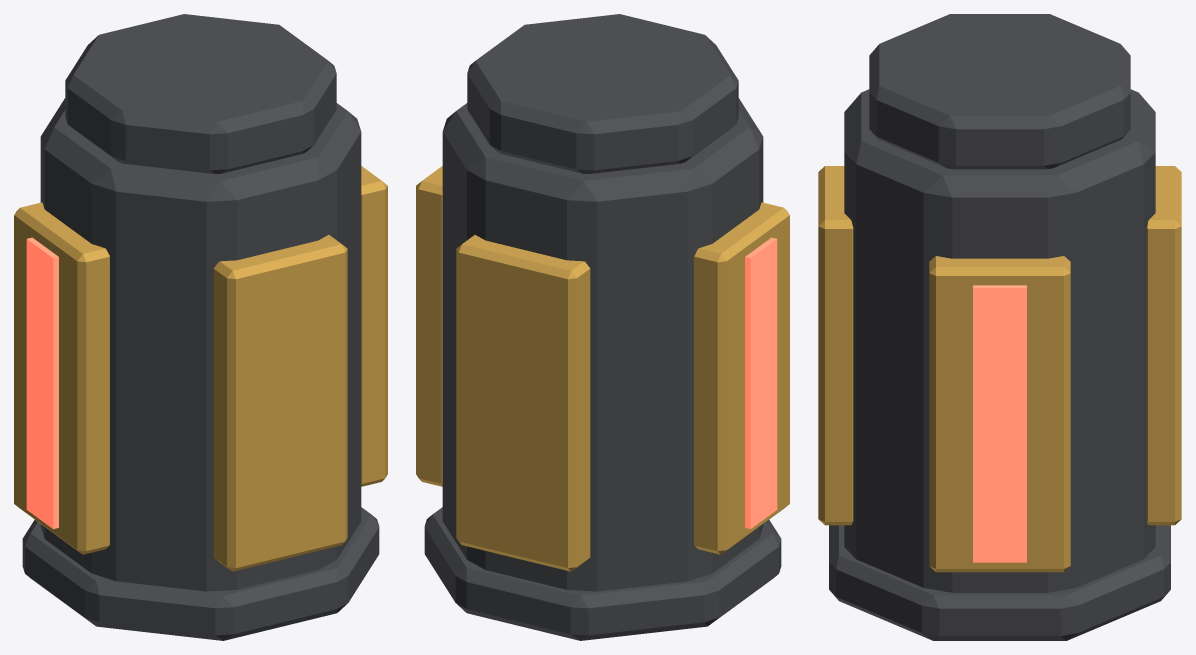
The model's file is heatsinkCoolingCanister.0199c8d5.glb.
3 renders of one model, left to right at view 1: azimuth 30°, elevation 25°; view 2: azimuth 150°, elevation 25°; view 3: azimuth 270°, elevation 25°, orthographic.
Parts seen in each view (by area): view 1: cooling_canister; view 2: cooling_canister; view 3: cooling_canister.
Boxes of the visible parts, x1,y1,x2,y2 form: cooling_canister: [14, 14, 387, 640]; cooling_canister: [416, 14, 789, 640]; cooling_canister: [818, 14, 1181, 640].
Bounding box in the file's own units: 1.12 × 1.67 × 1.08.
